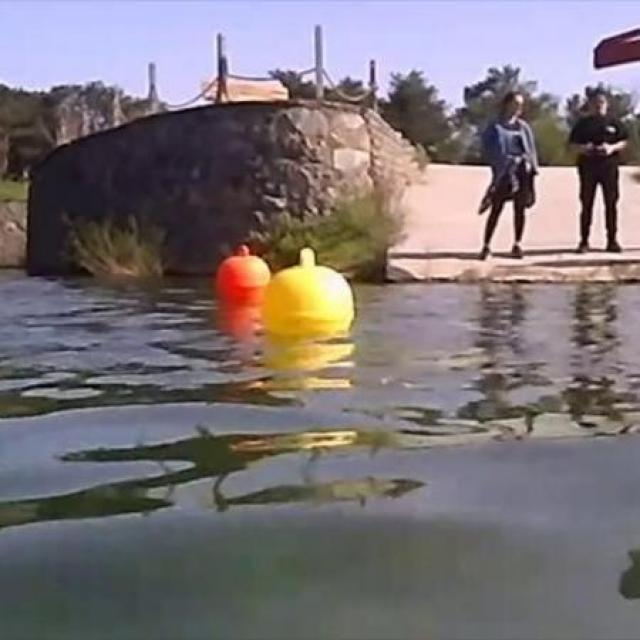buoy: (261, 248, 353, 334), (217, 244, 268, 298)
